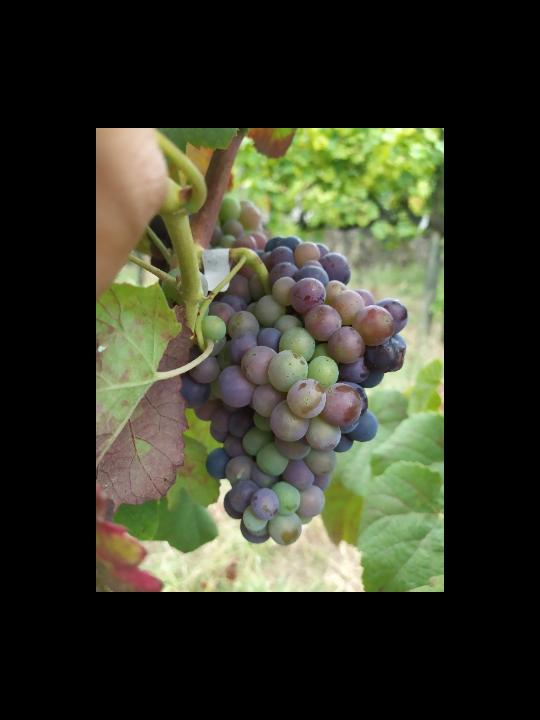grape: (179, 234, 410, 548)
